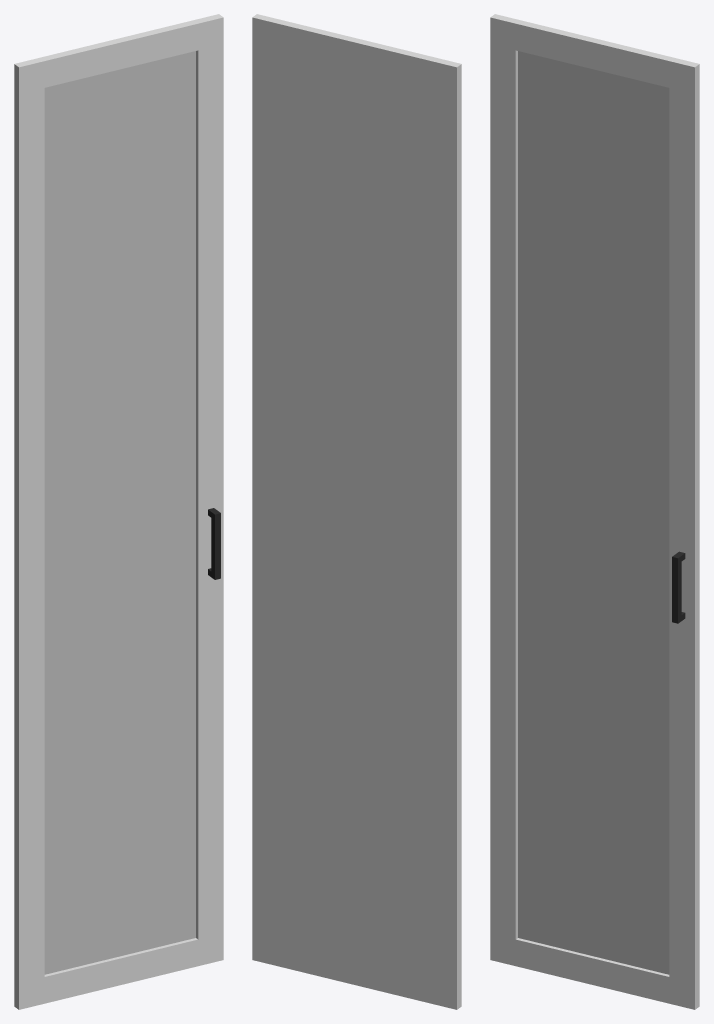
File: Wardrobe4_C1_05.fbx
The picture shows the model from 3 angles, left to right: view 1: azimuth 30°, elevation 25°; view 2: azimuth 150°, elevation 25°; view 3: azimuth 330°, elevation 25°; orthographic projection.
Visible parts, largest first — view 1: Wardrobe4_C1_05; view 2: Wardrobe4_C1_05; view 3: Wardrobe4_C1_05.
Part boxes in pixels (x1,y1,x2,y2): Wardrobe4_C1_05: [14, 14, 223, 1009]; Wardrobe4_C1_05: [252, 14, 461, 1009]; Wardrobe4_C1_05: [490, 14, 699, 1009].
Bounding box in the file's own units: 50 × 220 × 5.02.
